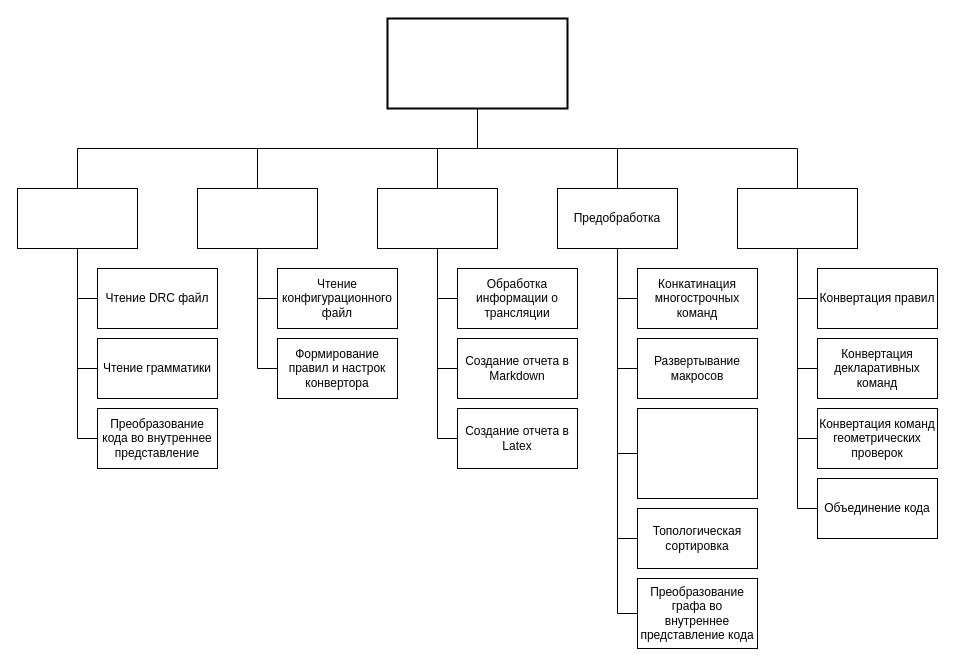
Some shapes in this 955 by 666 pixel diagram are drawn without their labels. Here are the shapes that lost their labels. From the top down, the box of each, then its label:
(386, 17, 568, 109): программа-конвертер DRC правил под открытые инструменты проектирования микросхем
(16, 188, 138, 248): Парсинг DRC файла
(196, 188, 318, 248): Конфигураци
(376, 188, 498, 248): Генерация отчета
(736, 188, 858, 248): Конвертертация
(636, 408, 758, 498): Преобразование внутреннего представления кода в ориентированный граф
